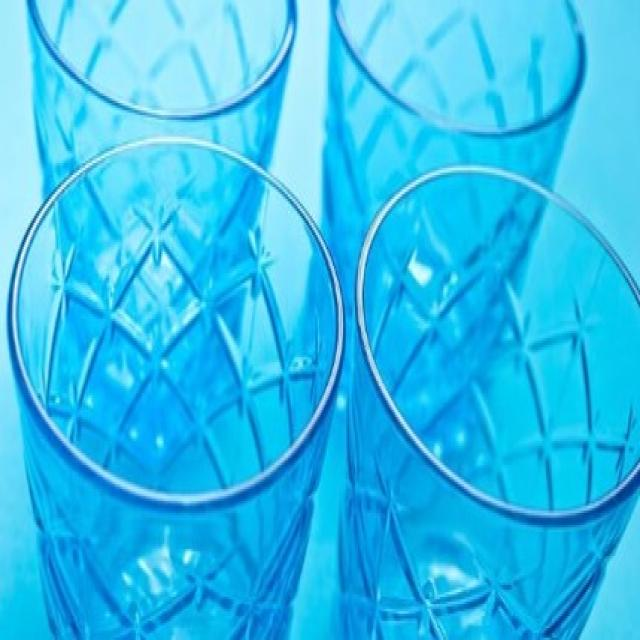electronic: (8, 134, 343, 640)
